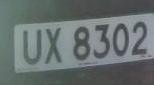0: (110, 19, 132, 59)
2: (129, 18, 150, 60)
3: (90, 19, 113, 61)
8: (71, 21, 93, 63)
U: (18, 26, 45, 70)
X: (43, 25, 66, 66)
